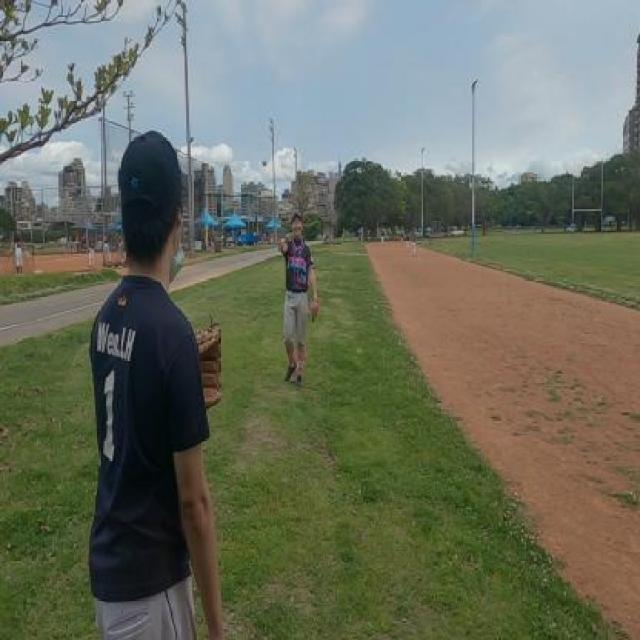baseball: (262, 159, 267, 167)
